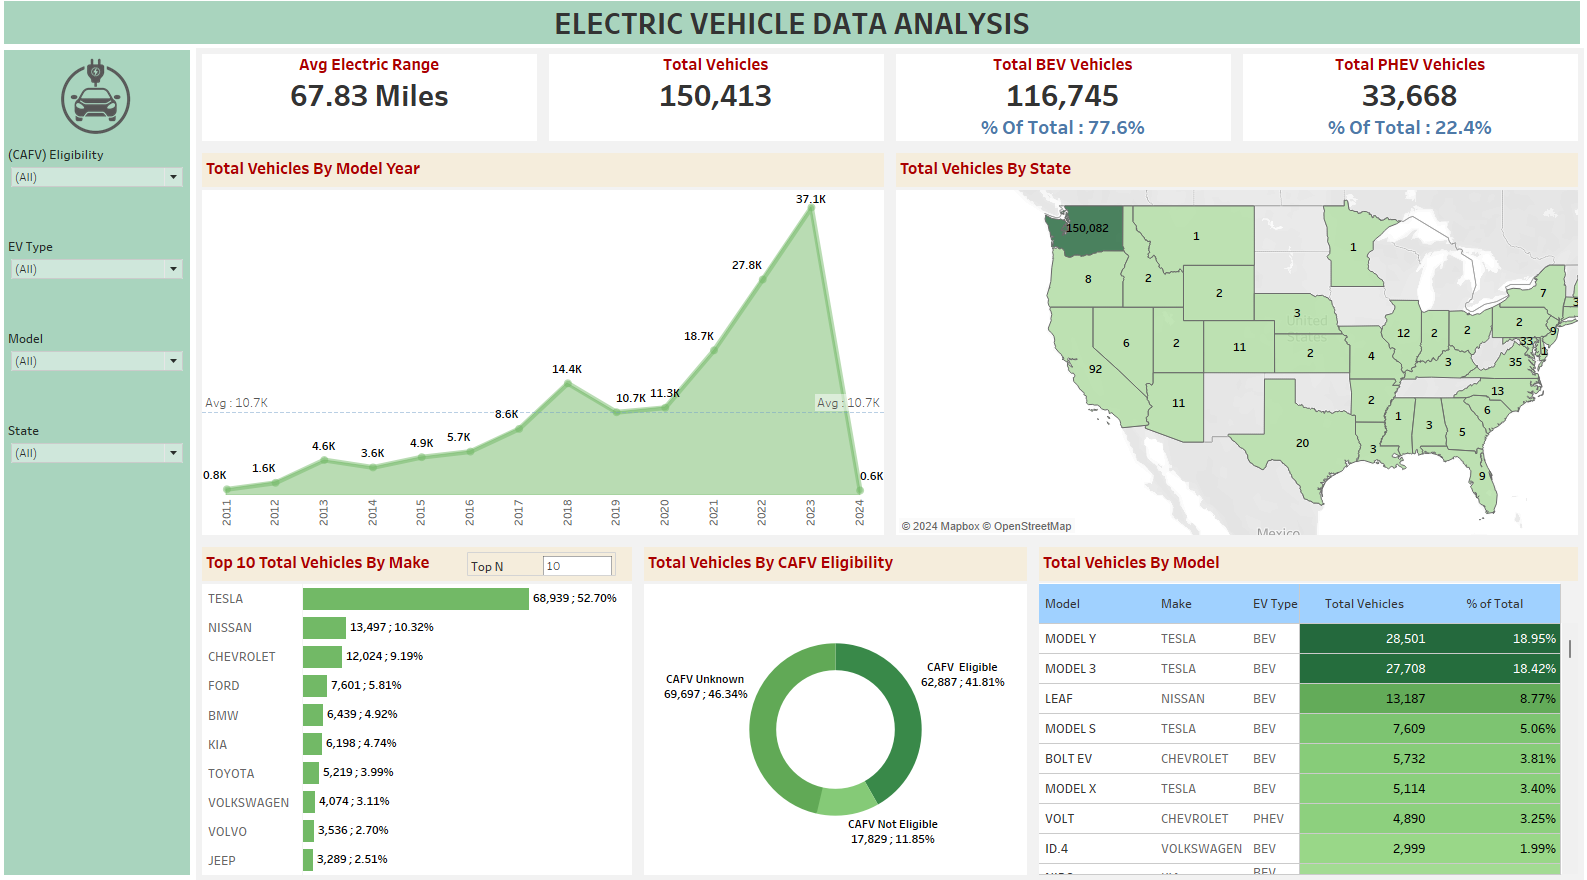

This screenshot's page, from the dashboard's own definition file:
{"tool":"tableau","page":{"name":"Dashboard 1","canvas":[1600,900],"ordinal":0},"visuals":[{"type":"title","box":[8,8,1584,51]},{"type":"worksheet","title":"Avg Electric Range","mark":"Automatic","box":[204,59,347,99]},{"type":"worksheet","title":"Total Vehicles","mark":"Automatic","box":[551,59,347,99]},{"type":"worksheet","title":"Total BEV Vehicles","mark":"Automatic","box":[898,59,347,99]},{"type":"worksheet","title":"Total PHEV Vehicles","mark":"Automatic","box":[1245,59,347,99]},{"type":"image","param":"Image/Screenshot_2024-10-15_152029-removebg-preview.png","box":[12,61,186,92]},{"type":"filter","title":"Total Vehicles By Model Year","param":"[federated.0efpfv018rctp410rfzzg1jjkljy].[none:Clean Alternative Fuel Vehicle (C","box":[12,153,186,92]},{"type":"worksheet","title":"Total Vehicles By Model Year","mark":"Area","rows":["Calculation_461900439644532736","Calculation_461900439644532736"],"cols":["Model Year"],"box":[204,158,694,394]},{"type":"worksheet","title":"Total Vehicles By State","mark":"Multipolygon","box":[898,158,694,394]},{"type":"filter","title":"Total Vehicles By Model Year","param":"[federated.0efpfv018rctp410rfzzg1jjkljy].[none:Electric Vehicle Type:nk]","box":[12,245,186,92]},{"type":"filter","title":"Total Vehicles By Model Year","param":"[federated.0efpfv018rctp410rfzzg1jjkljy].[none:Model:nk]","box":[12,337,186,92]},{"type":"filter","title":"Total Vehicles By Model Year","param":"[federated.0efpfv018rctp410rfzzg1jjkljy].[none:State:nk]","box":[12,429,186,92]},{"type":"blank","box":[12,521,186,92]},{"type":"worksheet","title":"Top 10 Total Vehicles By Make","mark":"Automatic","rows":["Make"],"cols":["Calculation_461900439644532736"],"box":[204,552,442,340]},{"type":"worksheet","title":"Total Vehicles By CAFV Eligibility","mark":"Pie","rows":["Calculation_461900440273739784","Calculation_461900440273739784"],"box":[646,552,395,340]},{"type":"worksheet","title":"Total Vehicles By Model","mark":"Square","rows":["Model","Make","Electric Vehicle Type"],"box":[1041,552,551,340]},{"type":"parameter","param":"[Parameters].[Parameter 1]","box":[475,563,149,24]},{"type":"blank","box":[12,613,186,91]},{"type":"blank","box":[12,704,186,91]},{"type":"blank","box":[12,795,186,91]}]}

Visuals, with their boxes in screenshot pixels (x1, y1, x2, y2), scaled from the page's 1600x900 canvas onto the 1587x880 screenshot:
title: 8,8,1579,58
"Avg Electric Range" worksheet: 202,58,547,154
"Total Vehicles" worksheet: 547,58,891,154
"Total BEV Vehicles" worksheet: 891,58,1235,154
"Total PHEV Vehicles" worksheet: 1235,58,1579,154
image: 12,60,196,150
"Total Vehicles By Model Year" filter: 12,150,196,240
"Total Vehicles By Model Year" worksheet (Area marks): 202,154,891,540
"Total Vehicles By State" worksheet (Multipolygon marks): 891,154,1579,540
"Total Vehicles By Model Year" filter: 12,240,196,330
"Total Vehicles By Model Year" filter: 12,330,196,419
"Total Vehicles By Model Year" filter: 12,419,196,509
blank: 12,509,196,599
"Top 10 Total Vehicles By Make" worksheet: 202,540,641,872
"Total Vehicles By CAFV Eligibility" worksheet (Pie marks): 641,540,1033,872
"Total Vehicles By Model" worksheet (Square marks): 1033,540,1579,872
parameter: 471,550,619,574
blank: 12,599,196,688
blank: 12,688,196,777
blank: 12,777,196,866
